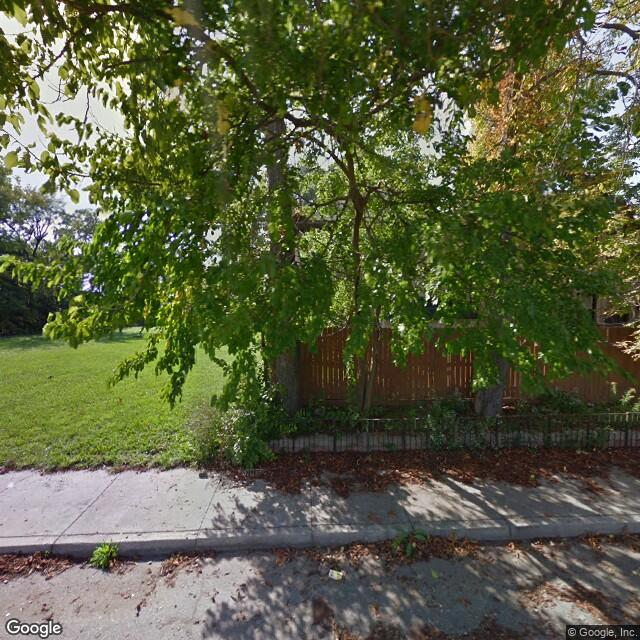litter: (322, 565, 348, 584)
